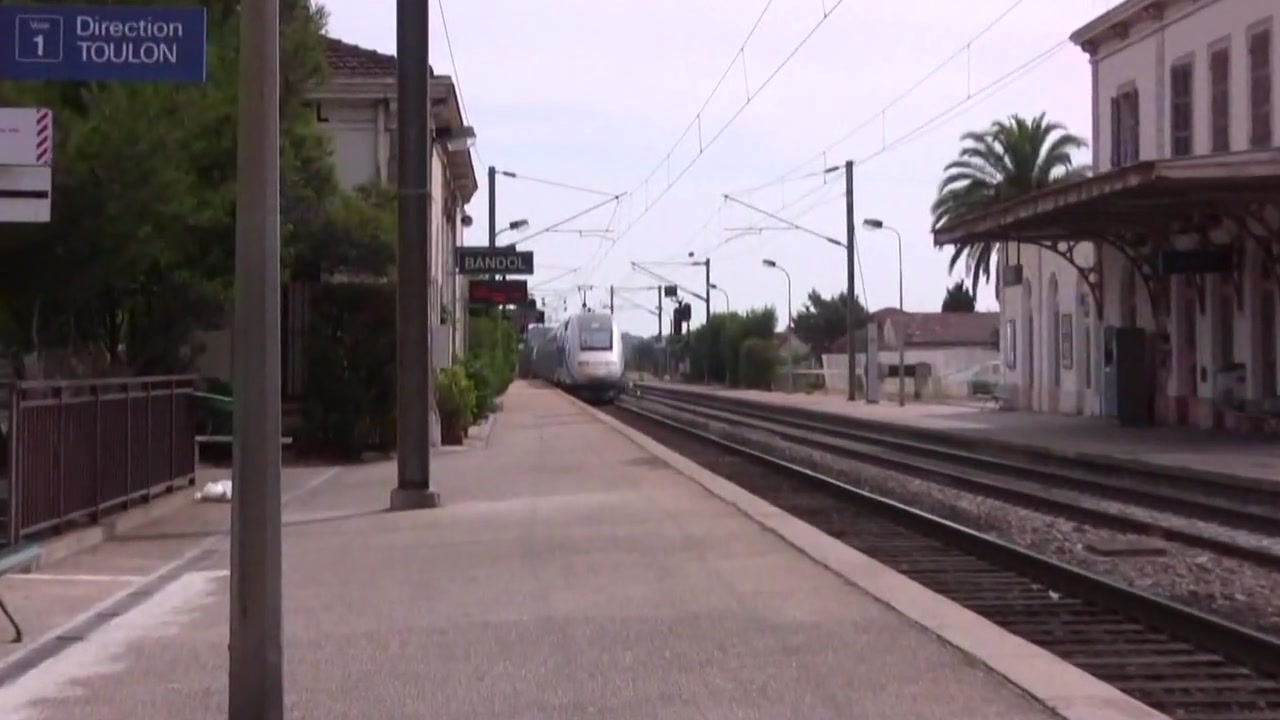train: (532, 304, 621, 394)
